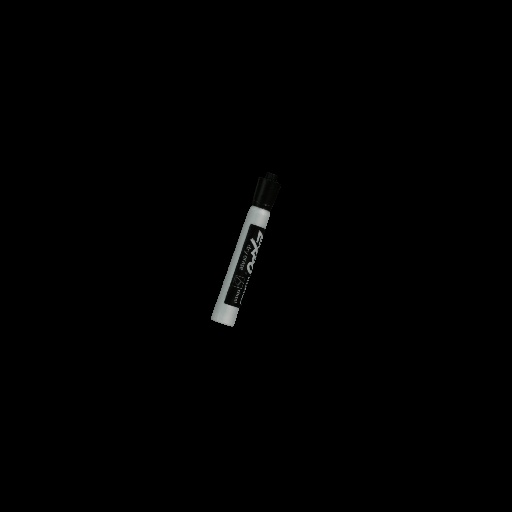Large Marker: (217, 170, 274, 333)
